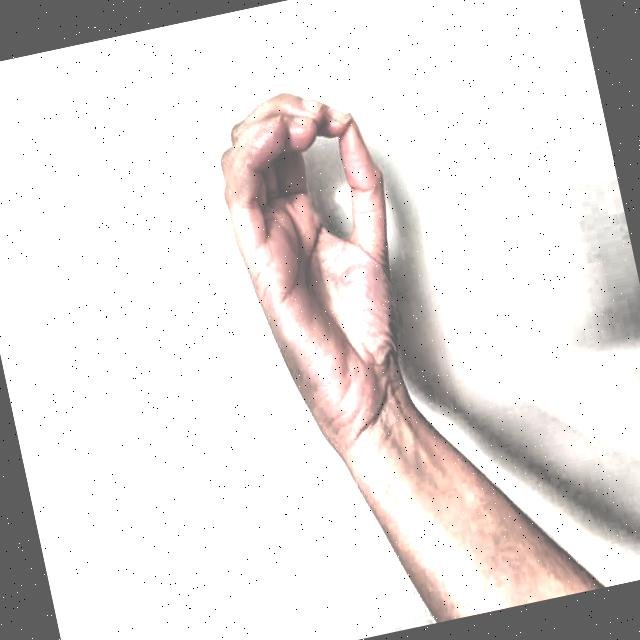O: (175, 48, 462, 470)
